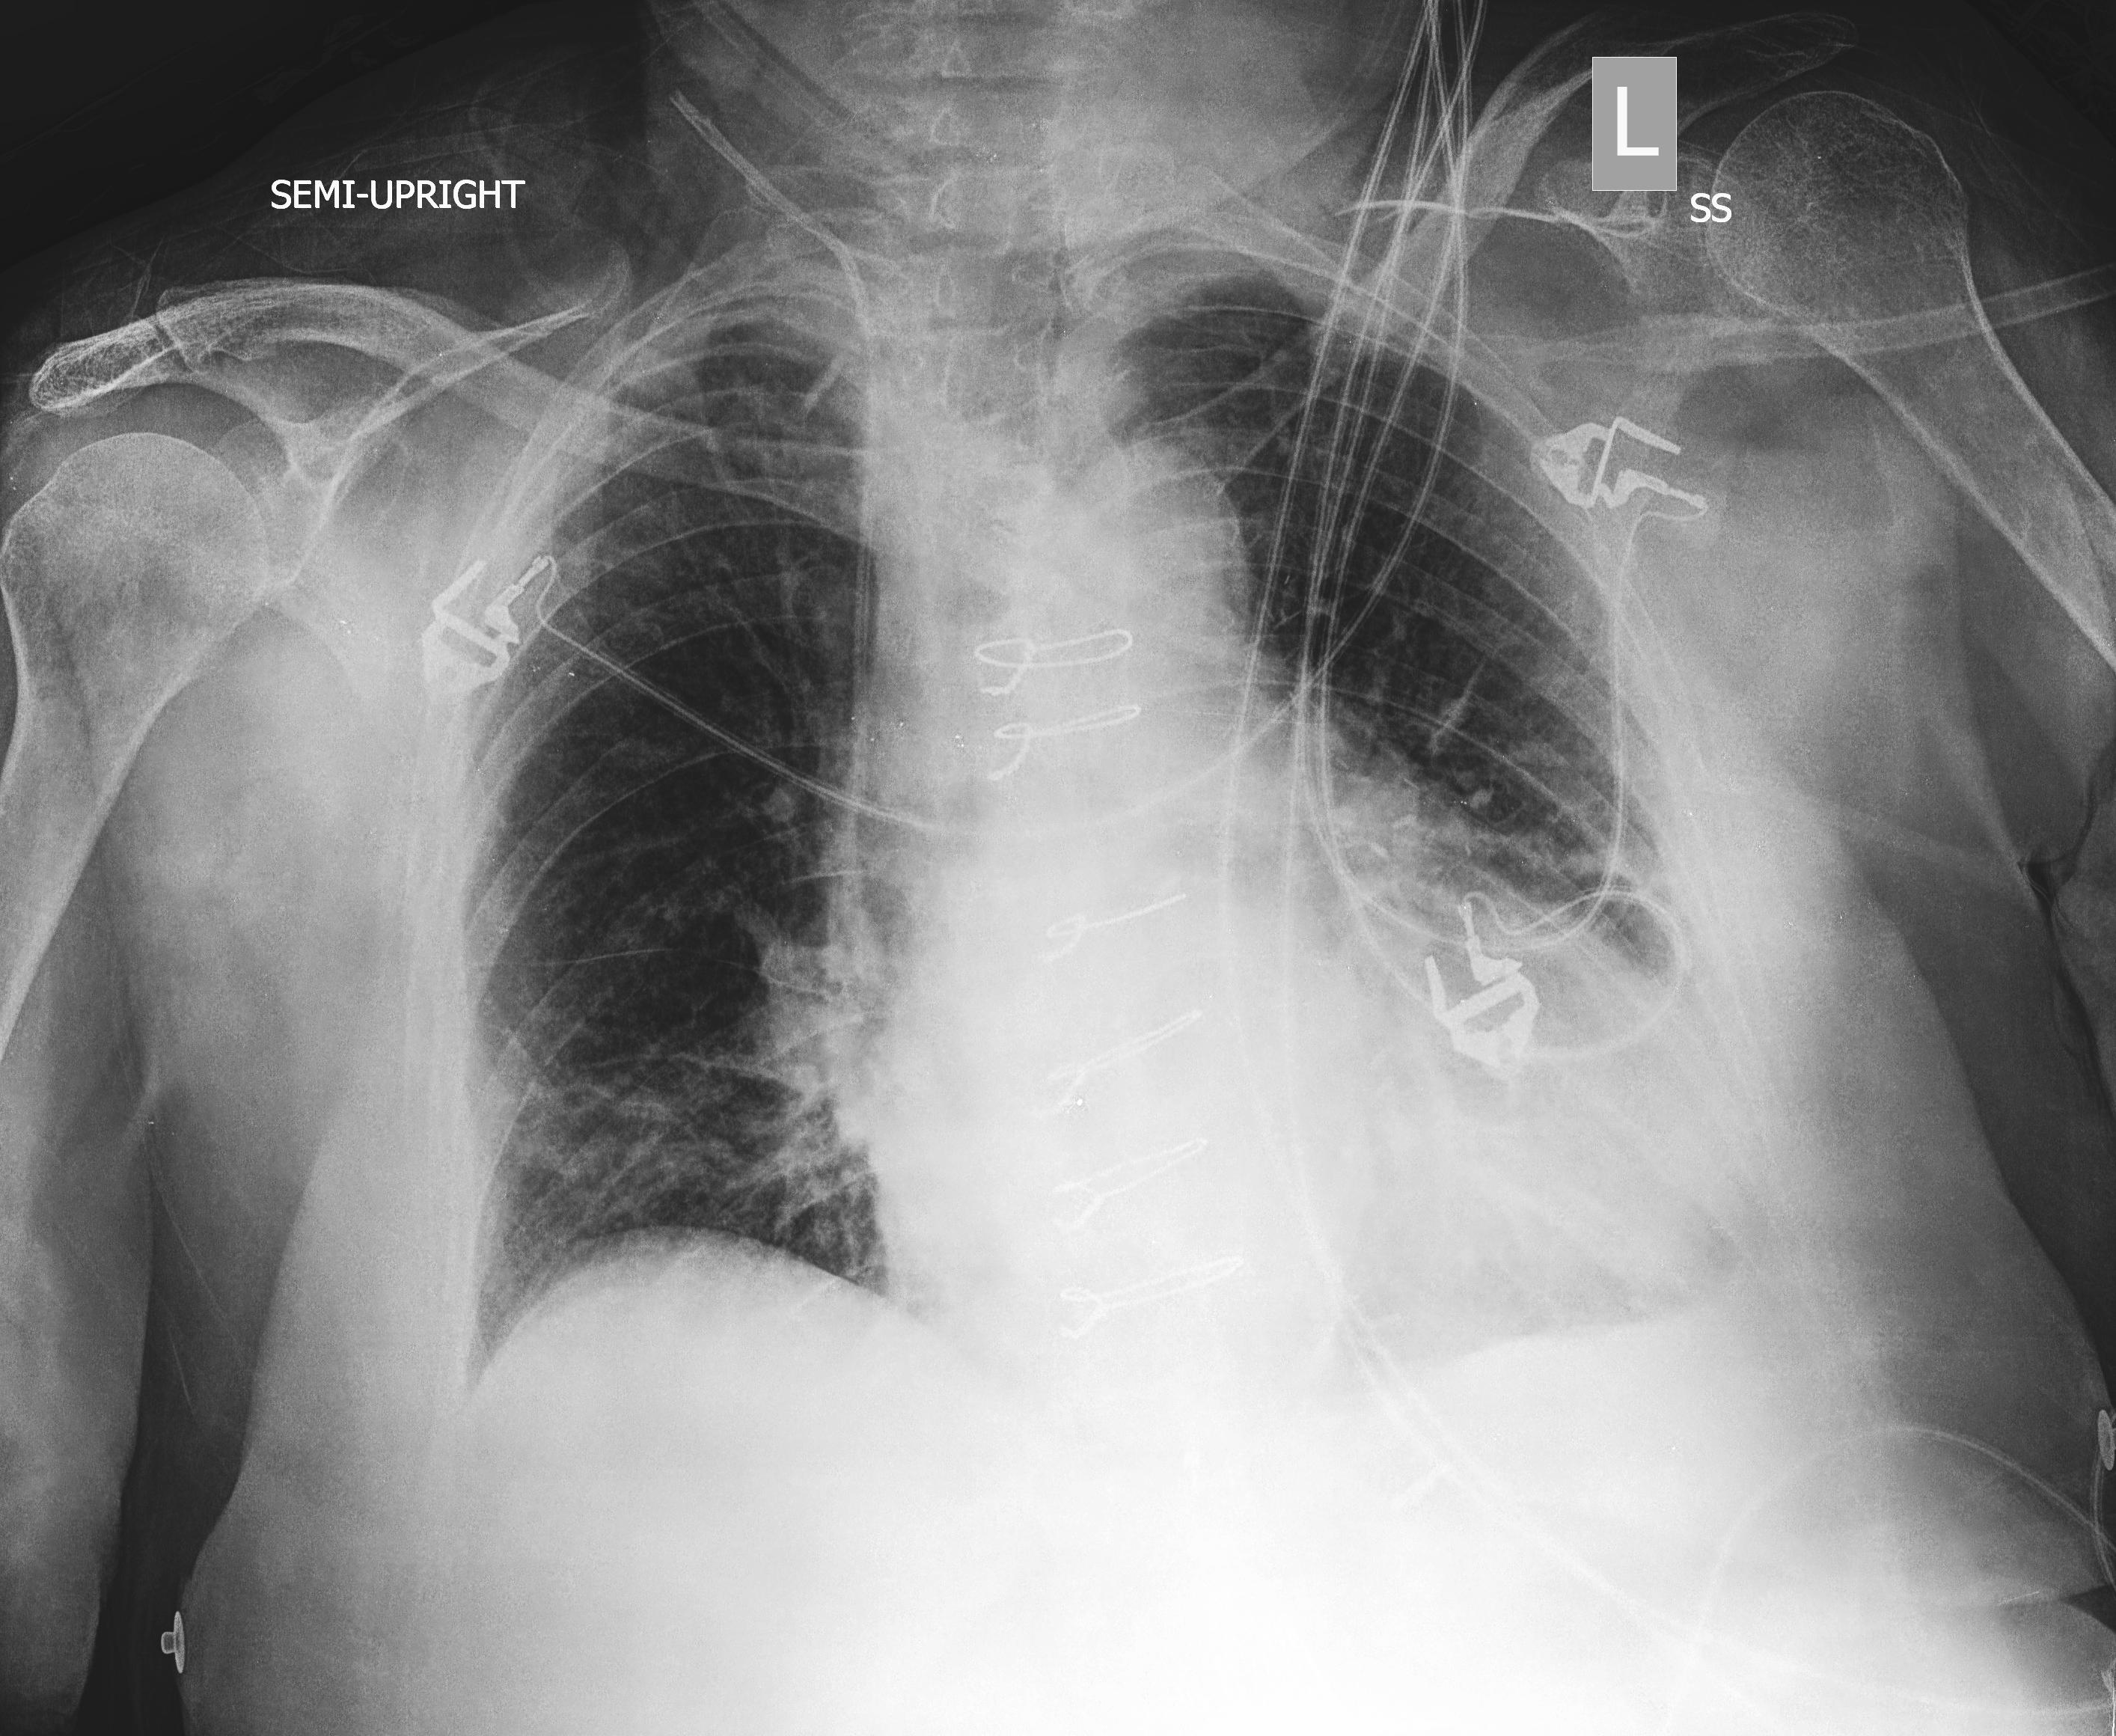Pleural Effusion: (1446, 914, 1852, 1457)
